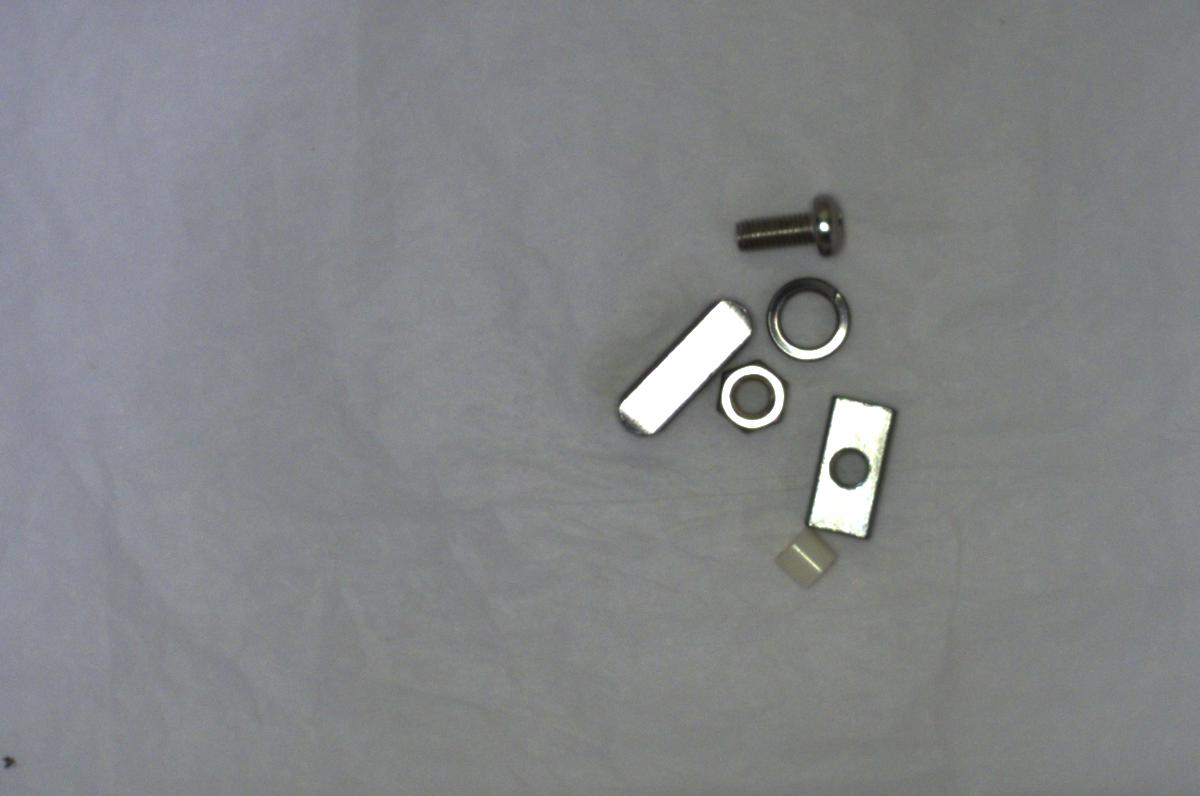Hexagon nut: (718, 358, 794, 432)
Keybar: (619, 290, 755, 432)
Plastic cushion pillar: (770, 523, 837, 589)
Rectangular nut: (798, 386, 897, 540)
Round head screw: (728, 180, 851, 270)
Spring washer: (765, 278, 855, 365)
